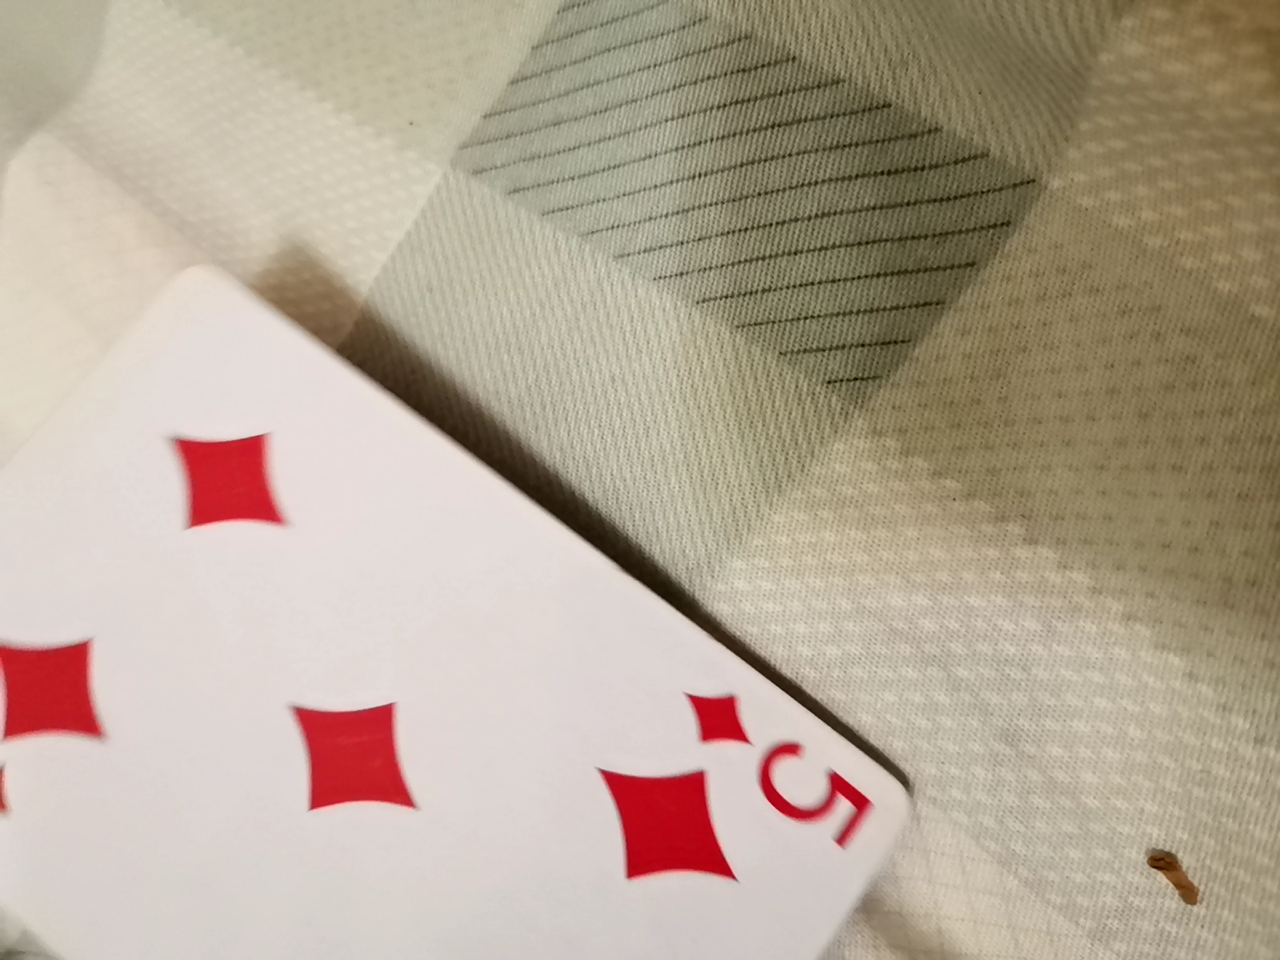fk 5: (4, 199, 949, 955)
